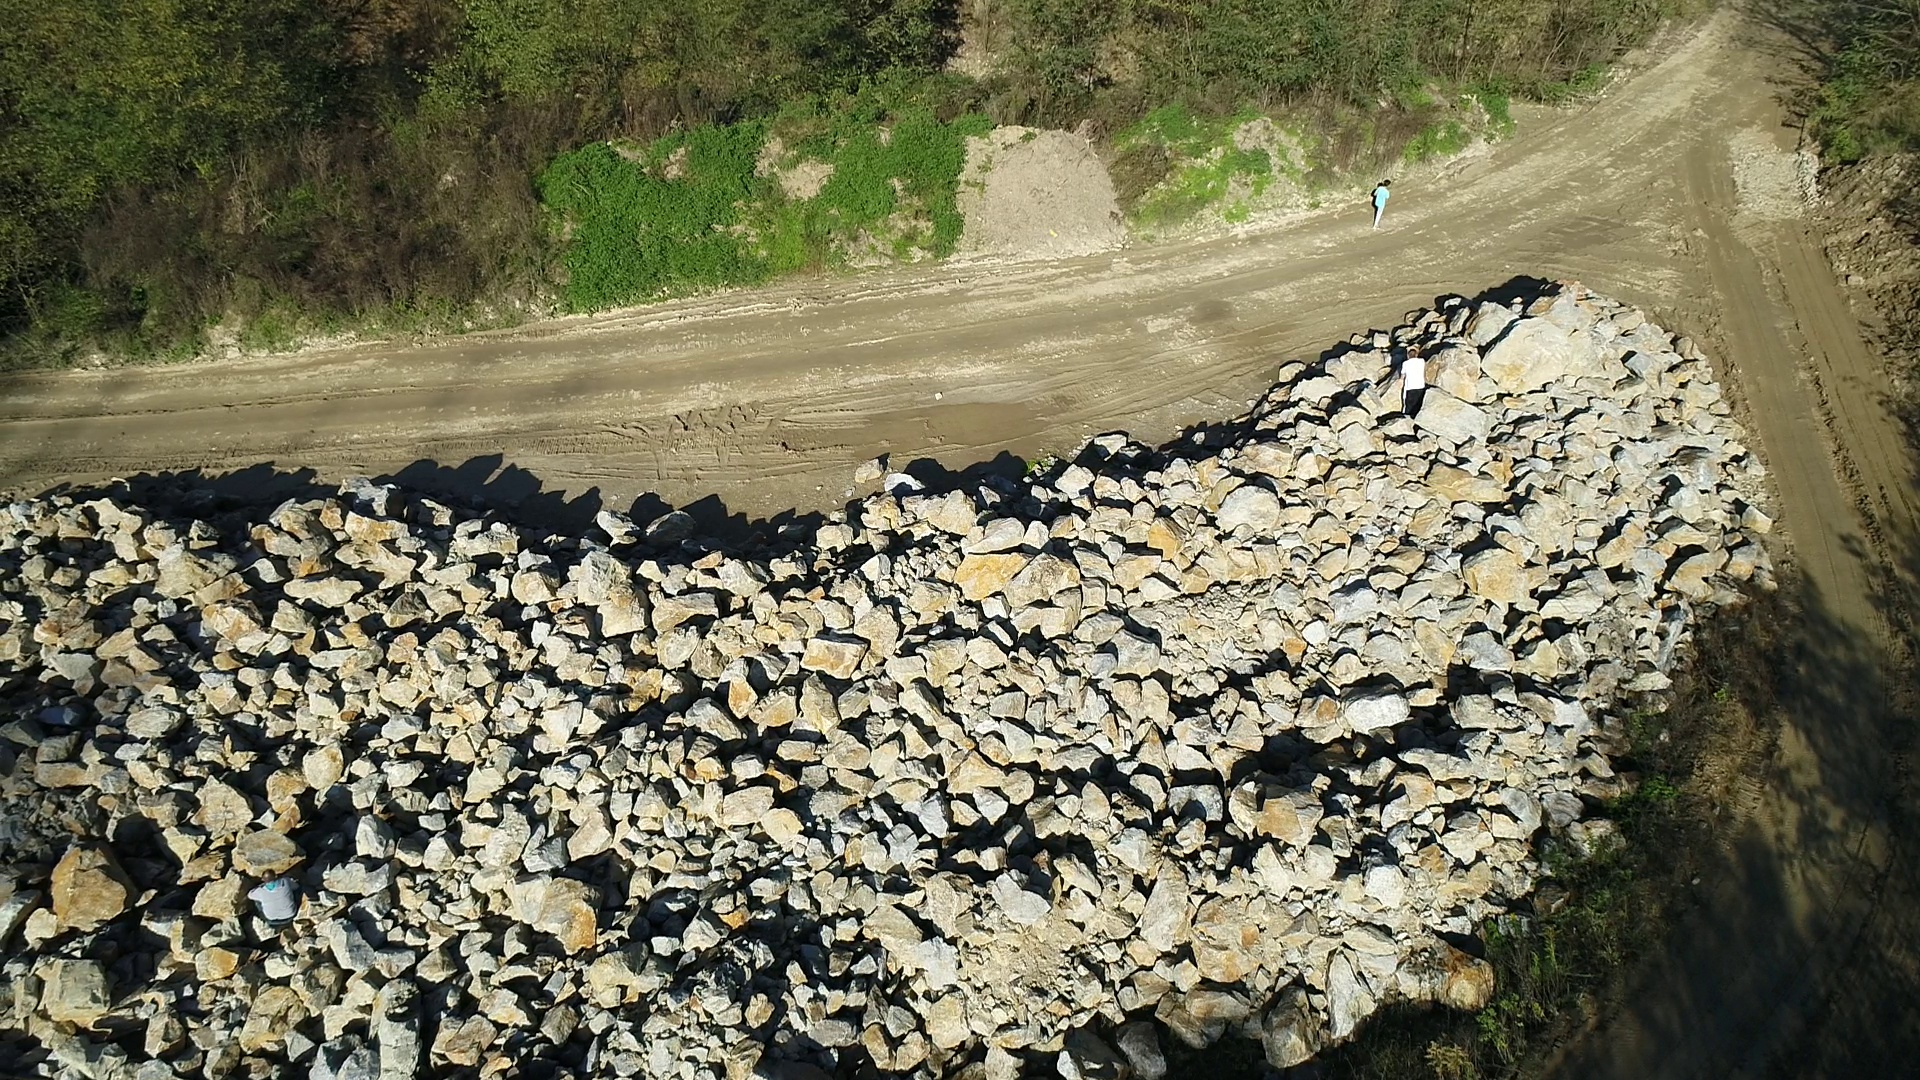person: (246, 867, 299, 928), (1401, 348, 1426, 415), (1371, 177, 1392, 230)
